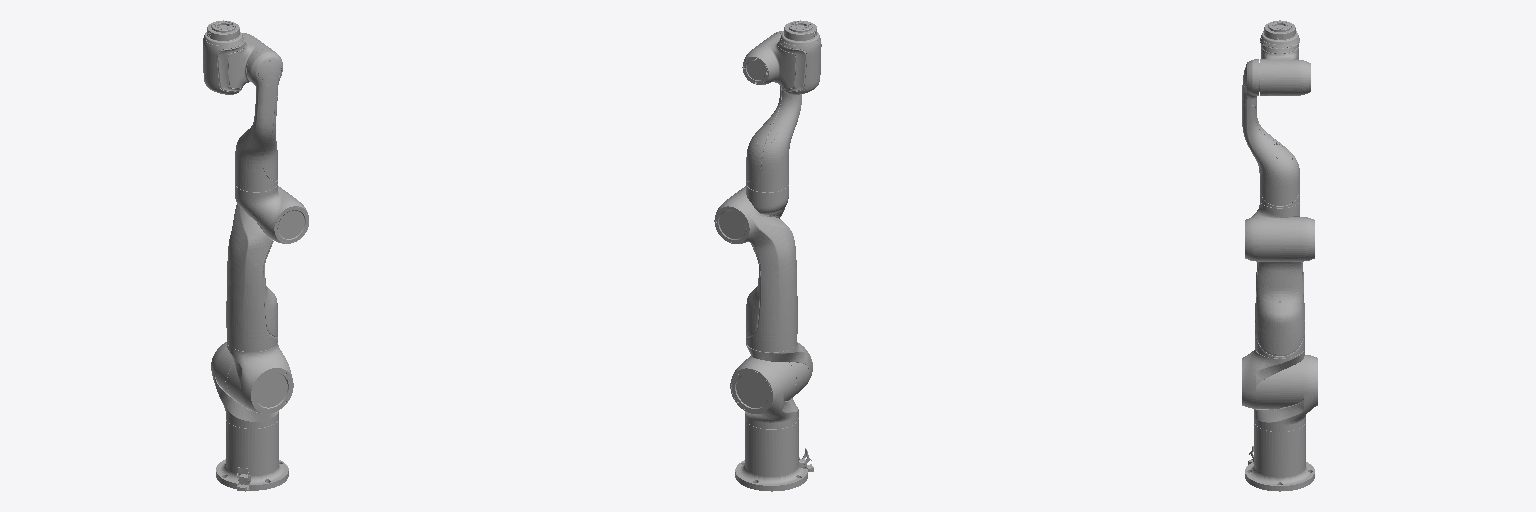
URDF robot description (diana7):
<?xml version="1.0" ?>
<!-- =================================================================================== -->
<!-- |    This document was autogenerated by xacro from /home/emreyuksel/robots/diana_description/robots/diana7/diana7.urdf.xacro | -->
<!-- |    EDITING THIS FILE BY HAND IS NOT RECOMMENDED                                 | -->
<!-- =================================================================================== -->
<robot name="diana7">
  <!-- safety_distance: Minimum safety distance in [m] by which the collision volumes are expanded and which is enforced during robot motions -->
  <!-- robot_type: the diana robot arm type -->
  <!-- joint_limits: description of the joint limits that comes from a YAML file. Example definition: ${xacro.load_yaml('$(find diana_description)/robots/diana3/joint_limits.yaml')} -->
  <!-- kinematics: description of the kinematics that comes from a YAML file. Example definition: ${xacro.load_yaml('$(find diana_description)/robots/diana3/kinematics.yaml')} -->
  <!-- inertials: description of the inertials that comes from a YAML file. Example definition: ${xacro.load_yaml('$(find diana_description)/robots/diana3/inertials.yaml')} -->
  <!-- dynamics: description of the dynamics that comes from a YAML file. Example definition: ${xacro.load_yaml('$(find diana_description)/robots/diana3/dynamics.yaml')} -->
  <link name="base">
      </link>
  <joint name="diana7_base_joint" type="fixed">
    <parent link="base"/>
    <child link="diana7_link0"/>
    <origin rpy="0 0 0" xyz="0 0 0"/>
  </joint>
  <!-- sub-link defining detailed meshes for collision with environment -->
  <link name="diana7_link0">
    <visual name="diana7_link0_visual">
      <geometry>
        <mesh filename="meshes/robots/diana7/visual/link0.obj"/>
      </geometry>
      <material name="diana7_link0_material">
        <color rgba="0.7 0.7 0.7 1"/>
      </material>
    </visual>
    <collision name="diana7_link0_collision">
      <geometry>
        <mesh filename="meshes/robots/diana7/collision/link0.obj"/>
      </geometry>
    </collision>
    <inertial>
      <origin rpy="0 0 0" xyz="0.0 0.0 0.0"/>
      <mass value="5.0"/>
      <inertia ixx="0.009" ixy="0.001" ixz="0.002" iyy="0.0115" iyz="0.0" izz="0.0085"/>
    </inertial>
  </link>
  <!-- sub-link defining detailed meshes for collision with environment -->
  <link name="diana7_link1">
    <visual name="diana7_link1_visual">
      <geometry>
        <mesh filename="meshes/robots/diana7/visual/link1.obj"/>
      </geometry>
      <material name="diana7_link1_material">
        <color rgba="0.7 0.7 0.7 1"/>
      </material>
    </visual>
    <collision name="diana7_link1_collision">
      <geometry>
        <mesh filename="meshes/robots/diana7/collision/link1.obj"/>
      </geometry>
    </collision>
    <inertial>
      <origin rpy="0 0 0" xyz="-0.000017 0.000007 0.03358"/>
      <mass value="5.299828"/>
      <inertia ixx="0.029705" ixy="-3.9e-05" ixz="-2.4e-05" iyy="0.02688" iyz="-7e-05" izz="0.015918"/>
    </inertial>
  </link>
  <joint name="diana7_joint1" type="revolute">
    <origin rpy="-3.14159265358 0.0 -0.0" xyz="0.0 0.0 0.2856"/>
    <parent link="diana7_link0"/>
    <child link="diana7_link1"/>
    <axis xyz="0 0 1"/>
    <limit effort="235.0" lower="-3.12413936107" upper="3.12413936107" velocity="2.967059728"/>
    <safety_controller k_position="100.0" k_velocity="40.0" soft_lower_limit="-3.12413936107" soft_upper_limit="3.12413936107"/>
    <position_based_velocity_limits deceleration_limit="6.0" velocity_offset="0.3"/>
    <dynamics D="1" K="7000" damping="0.0" friction="0.1" gear_ratio="120.0" motor_inertia="4.206399e-05" mu_coulomb="0" mu_viscous="16"/>
  </joint>
  <!-- sub-link defining detailed meshes for collision with environment -->
  <link name="diana7_link2">
    <visual name="diana7_link2_visual">
      <geometry>
        <mesh filename="meshes/robots/diana7/visual/link2.obj"/>
      </geometry>
      <material name="diana7_link2_material">
        <color rgba="0.7 0.7 0.7 1"/>
      </material>
    </visual>
    <collision name="diana7_link2_collision">
      <geometry>
        <mesh filename="meshes/robots/diana7/collision/link2.obj"/>
      </geometry>
    </collision>
    <inertial>
      <origin rpy="0 0 0" xyz="-0.000015 -0.046026 -0.035713"/>
      <mass value="3.24637"/>
      <inertia ixx="0.020388" ixy="-2e-06" ixz="0.0" iyy="0.009309" iyz="0.005307" izz="0.01893"/>
    </inertial>
  </link>
  <joint name="diana7_joint2" type="revolute">
    <origin rpy="1.57079632679 -0.0 -0.0" xyz="0.0 -0.0 -0.0"/>
    <parent link="diana7_link1"/>
    <child link="diana7_link2"/>
    <axis xyz="0 0 1"/>
    <limit effort="235.0" lower="-1.5707963268" upper="1.5707963268" velocity="2.617993878"/>
    <safety_controller k_position="100.0" k_velocity="40.0" soft_lower_limit="-1.5707963268" soft_upper_limit="1.5707963268"/>
    <position_based_velocity_limits deceleration_limit="2.585" velocity_offset="0.2"/>
    <dynamics D="1" K="7000" damping="0.0" friction="0.1" gear_ratio="120.0" motor_inertia="4.206399e-05" mu_coulomb="0" mu_viscous="16"/>
  </joint>
  <!-- sub-link defining detailed meshes for collision with environment -->
  <link name="diana7_link3">
    <visual name="diana7_link3_visual">
      <geometry>
        <mesh filename="meshes/robots/diana7/visual/link3.obj"/>
      </geometry>
      <material name="diana7_link3_material">
        <color rgba="0.7 0.7 0.7 1"/>
      </material>
    </visual>
    <collision name="diana7_link3_collision">
      <geometry>
        <mesh filename="meshes/robots/diana7/collision/link3.obj"/>
      </geometry>
    </collision>
    <inertial>
      <origin rpy="0 0 0" xyz="0.027041 0.001592 0.140231"/>
      <mass value="5.231815"/>
      <inertia ixx="0.117623" ixy="-0.000425" ixz="0.021147" iyy="0.121236" iyz="0.001127" izz="0.019132"/>
    </inertial>
  </link>
  <joint name="diana7_joint3" type="revolute">
    <origin rpy="-1.57079632679 0.0 -0.0" xyz="0.0 -0.4586 0.0"/>
    <parent link="diana7_link2"/>
    <child link="diana7_link3"/>
    <axis xyz="0 0 1"/>
    <limit effort="111.0" lower="-3.12413936107" upper="3.12413936107" velocity="2.617993878"/>
    <safety_controller k_position="100.0" k_velocity="40.0" soft_lower_limit="-3.12413936107" soft_upper_limit="3.12413936107"/>
    <position_based_velocity_limits deceleration_limit="3.5" velocity_offset="0.2"/>
    <dynamics D="1" K="7000" damping="0.0" friction="0.1" gear_ratio="120.0" motor_inertia="3.211626e-05" mu_coulomb="0" mu_viscous="16"/>
  </joint>
  <!-- sub-link defining detailed meshes for collision with environment -->
  <link name="diana7_link4">
    <visual name="diana7_link4_visual">
      <geometry>
        <mesh filename="meshes/robots/diana7/visual/link4.obj"/>
      </geometry>
      <material name="diana7_link4_material">
        <color rgba="0.7 0.7 0.7 1"/>
      </material>
    </visual>
    <collision name="diana7_link4_collision">
      <geometry>
        <mesh filename="meshes/robots/diana7/collision/link4.obj"/>
      </geometry>
    </collision>
    <inertial>
      <origin rpy="0 0 0" xyz="-0.02611 -0.042551 -0.029657"/>
      <mass value="1.94006"/>
      <inertia ixx="0.009292" ixy="-0.002304" ixz="0.001465" iyy="0.005983" iyz="0.002463" izz="0.009392"/>
    </inertial>
  </link>
  <joint name="diana7_joint4" type="revolute">
    <origin rpy="1.57079632679 -0.0 -0.0" xyz="0.065 -0.0 -0.0"/>
    <parent link="diana7_link3"/>
    <child link="diana7_link4"/>
    <axis xyz="0 0 1"/>
    <limit effort="111.0" lower="0.0" upper="3.05432619099" velocity="2.617993878"/>
    <safety_controller k_position="100.0" k_velocity="40.0" soft_lower_limit="0.0" soft_upper_limit="3.05432619099"/>
    <position_based_velocity_limits deceleration_limit="4.0" velocity_offset="0.3"/>
    <dynamics D="1" K="7000" damping="0.0" friction="0.1" gear_ratio="120.0" motor_inertia="3.211626e-05" mu_coulomb="0" mu_viscous="16"/>
  </joint>
  <!-- sub-link defining detailed meshes for collision with environment -->
  <link name="diana7_link5">
    <visual name="diana7_link5_visual">
      <geometry>
        <mesh filename="meshes/robots/diana7/visual/link5.obj"/>
      </geometry>
      <material name="diana7_link5_material">
        <color rgba="0.7 0.7 0.7 1"/>
      </material>
    </visual>
    <collision name="diana7_link5_collision">
      <geometry>
        <mesh filename="meshes/robots/diana7/collision/link5.obj"/>
      </geometry>
    </collision>
    <inertial>
      <origin rpy="0 0 0" xyz="-0.006541 0.023619 0.19377"/>
      <mass value="2.678626"/>
      <inertia ixx="0.063743" ixy="0.000512" ixz="-0.002363" iyy="0.061192" iyz="0.008513" izz="0.006265"/>
    </inertial>
  </link>
  <joint name="diana7_joint5" type="revolute">
    <origin rpy="-1.57079632679 0.0 -0.0" xyz="-0.0528 -0.4554 0.0"/>
    <parent link="diana7_link4"/>
    <child link="diana7_link5"/>
    <axis xyz="0 0 1"/>
    <limit effort="54.0" lower="-3.12413936107" upper="3.12413936107" velocity="3.14159265359"/>
    <safety_controller k_position="100.0" k_velocity="40.0" soft_lower_limit="-3.12413936107" soft_upper_limit="3.12413936107"/>
    <position_based_velocity_limits deceleration_limit="17.0" velocity_offset="0.35"/>
    <dynamics D="1" K="7000" damping="0.0" friction="0.1" gear_ratio="80.0" motor_inertia="3.211626e-05" mu_coulomb="0" mu_viscous="16"/>
  </joint>
  <!-- sub-link defining detailed meshes for collision with environment -->
  <link name="diana7_link6">
    <visual name="diana7_link6_visual">
      <geometry>
        <mesh filename="meshes/robots/diana7/visual/link6.obj"/>
      </geometry>
      <material name="diana7_link6_material">
        <color rgba="0.7 0.7 0.7 1"/>
      </material>
    </visual>
    <collision name="diana7_link6_collision">
      <geometry>
        <mesh filename="meshes/robots/diana7/collision/link6.obj"/>
      </geometry>
    </collision>
    <inertial>
      <origin rpy="0 0 0" xyz="0.048158 -0.01544 0.001272"/>
      <mass value="2.856811"/>
      <inertia ixx="0.007152" ixy="0.001764" ixz="0.000167" iyy="0.010739" iyz="-5.3e-05" izz="0.011456"/>
    </inertial>
  </link>
  <joint name="diana7_joint6" type="revolute">
    <origin rpy="1.57079632679 0.0 3.14159265359" xyz="-0.0122 0.0 -0.0"/>
    <parent link="diana7_link5"/>
    <child link="diana7_link6"/>
    <axis xyz="0 0 1"/>
    <limit effort="54.0" lower="-3.12413936107" upper="3.12413936107" velocity="3.14159265359"/>
    <safety_controller k_position="100.0" k_velocity="40.0" soft_lower_limit="-3.12413936107" soft_upper_limit="3.12413936107"/>
    <position_based_velocity_limits deceleration_limit="5.5" velocity_offset="0.35"/>
    <dynamics D="1" K="7000" damping="0.0" friction="0.1" gear_ratio="80.0" motor_inertia="3.211626e-05" mu_coulomb="0" mu_viscous="16"/>
  </joint>
  <!-- sub-link defining detailed meshes for collision with environment -->
  <link name="diana7_link7">
    <visual name="diana7_link7_visual">
      <geometry>
        <mesh filename="meshes/robots/diana7/visual/link7.obj"/>
      </geometry>
      <material name="diana7_link7_material">
        <color rgba="0.7 0.7 0.7 1"/>
      </material>
    </visual>
    <collision name="diana7_link7_collision">
      <geometry>
        <mesh filename="meshes/robots/diana7/collision/link7.obj"/>
      </geometry>
    </collision>
    <inertial>
      <origin rpy="0 0 0" xyz="0.000488 0.0 0.03826"/>
      <mass value="0.575995"/>
      <inertia ixx="0.000876" ixy="0.0" ixz="6e-06" iyy="0.000891" iyz="0.0" izz="0.000481"/>
    </inertial>
  </link>
  <joint name="diana7_joint7" type="revolute">
    <origin rpy="-1.57079632679 0.0 -0.0" xyz="0.087 -0.1169 0.0"/>
    <parent link="diana7_link6"/>
    <child link="diana7_link7"/>
    <axis xyz="0 0 1"/>
    <limit effort="54.0" lower="-3.12413936107" upper="3.12413936107" velocity="3.839724354"/>
    <safety_controller k_position="100.0" k_velocity="40.0" soft_lower_limit="-3.12413936107" soft_upper_limit="3.12413936107"/>
    <position_based_velocity_limits deceleration_limit="17.0" velocity_offset="0.35"/>
    <dynamics D="1" K="7000" damping="0.0" friction="0.1" gear_ratio="80.0" motor_inertia="3.211626e-05" mu_coulomb="0" mu_viscous="16"/>
  </joint>
  <link name="diana7_link8"/>
  <joint name="diana7_joint8" type="fixed">
    <origin rpy="0.0 0.0 0.0" xyz="0.0 0.0 0.0"/>
    <parent link="diana7_link7"/>
    <child link="diana7_link8"/>
  </joint>
</robot>

--- Facts derived from the render (not from the file) ---
Views: 3 orthographic renders of the robot side by side, from view 1: azimuth 30°, elevation 25°; view 2: azimuth 150°, elevation 25°; view 3: azimuth 270°, elevation 25°.
Model diana7 with 10 links and 9 joints (7 revolute, 2 fixed), rooted at base, posed every joint at zero.
Visible links, largest first — view 1: diana7_link3, diana7_link5, diana7_link0, diana7_link2, diana7_link4, diana7_link6, diana7_link1, diana7_link7; view 2: diana7_link3, diana7_link0, diana7_link1, diana7_link5, diana7_link6, diana7_link2, diana7_link4, diana7_link7; view 3: diana7_link3, diana7_link5, diana7_link0, diana7_link1, diana7_link6, diana7_link2, diana7_link4, diana7_link7.
Link boxes in pixels (left/top/right/bottom): diana7_link3: left=226, top=186, right=284, bottom=351; diana7_link5: left=235, top=49, right=282, bottom=191; diana7_link0: left=216, top=420, right=288, bottom=491; diana7_link2: left=227, top=343, right=293, bottom=413; diana7_link4: left=235, top=184, right=308, bottom=243; diana7_link6: left=203, top=33, right=271, bottom=94; diana7_link1: left=211, top=342, right=278, bottom=428; diana7_link7: left=204, top=20, right=242, bottom=45; diana7_link3: left=714, top=190, right=797, bottom=352; diana7_link0: left=735, top=418, right=813, bottom=491; diana7_link1: left=730, top=356, right=798, bottom=428; diana7_link5: left=746, top=31, right=801, bottom=192; diana7_link6: left=742, top=33, right=821, bottom=94; diana7_link2: left=746, top=342, right=812, bottom=397; diana7_link4: left=738, top=185, right=788, bottom=218; diana7_link7: left=781, top=20, right=819, bottom=45; diana7_link3: left=1255, top=217, right=1314, bottom=358; diana7_link5: left=1242, top=59, right=1299, bottom=207; diana7_link0: left=1245, top=423, right=1314, bottom=491; diana7_link1: left=1254, top=355, right=1317, bottom=431; diana7_link6: left=1260, top=38, right=1310, bottom=95; diana7_link2: left=1242, top=349, right=1304, bottom=409; diana7_link4: left=1245, top=202, right=1299, bottom=261; diana7_link7: left=1261, top=20, right=1298, bottom=44.
Bounding box of the posed robot: 0.2677 × 0.208 × 1.32 m (x, y, z).
8 mesh visuals loaded from 8 distinct referenced files (8 OBJ).
